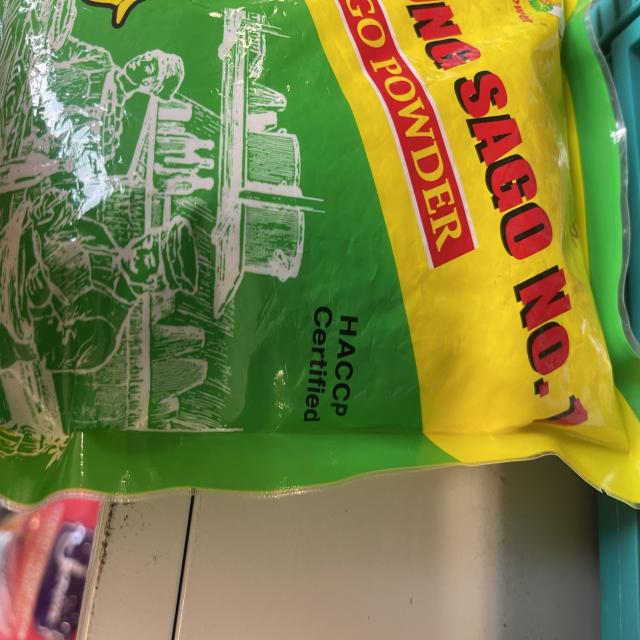object_name: (2, 4, 640, 479)
